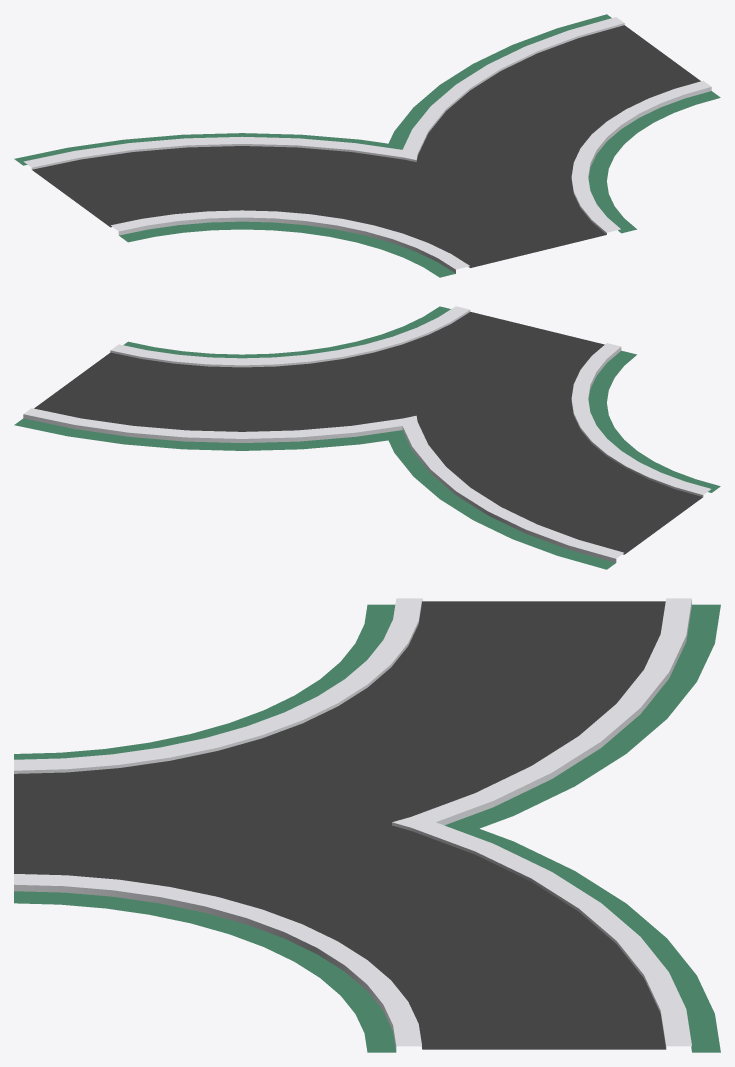
File: roadSplitRound.glb
3 views of the same model, one above another, from view 1: azimuth 30°, elevation 25°; view 2: azimuth 150°, elevation 25°; view 3: azimuth 270°, elevation 25° (orthographic). The views are drawn at different scales.
Parts seen in each view (by area): view 1: roadSplitRound(Clone); view 2: roadSplitRound(Clone); view 3: roadSplitRound(Clone).
Part boxes in pixels (x1,y1,x2,y2): roadSplitRound(Clone): [14, 14, 720, 277]; roadSplitRound(Clone): [14, 306, 720, 569]; roadSplitRound(Clone): [14, 598, 720, 1052].
Bounding box in the file's own units: 3 × 0.02 × 2.
